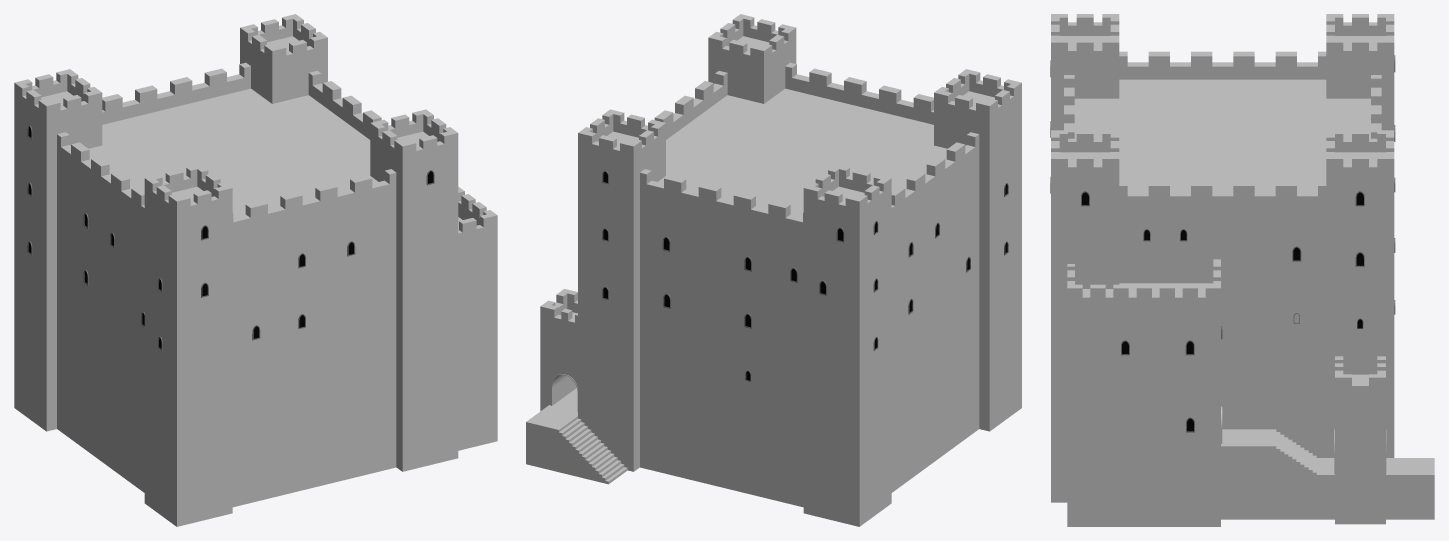
File: castle.gltf
3 renders of one model, left to right at view 1: azimuth 30°, elevation 25°; view 2: azimuth 150°, elevation 25°; view 3: azimuth 270°, elevation 25°, orthographic. The views are drawn at different scales.
Visible parts, largest first — view 1: Keep; view 2: Keep; view 3: Keep.
Boxes of the visible parts, bbox=[...] form: Keep: bbox=[14, 14, 497, 526]; Keep: bbox=[526, 14, 1021, 526]; Keep: bbox=[1050, 14, 1434, 526].
Bounding box in the file's own units: 1098 × 1034 × 1049.
